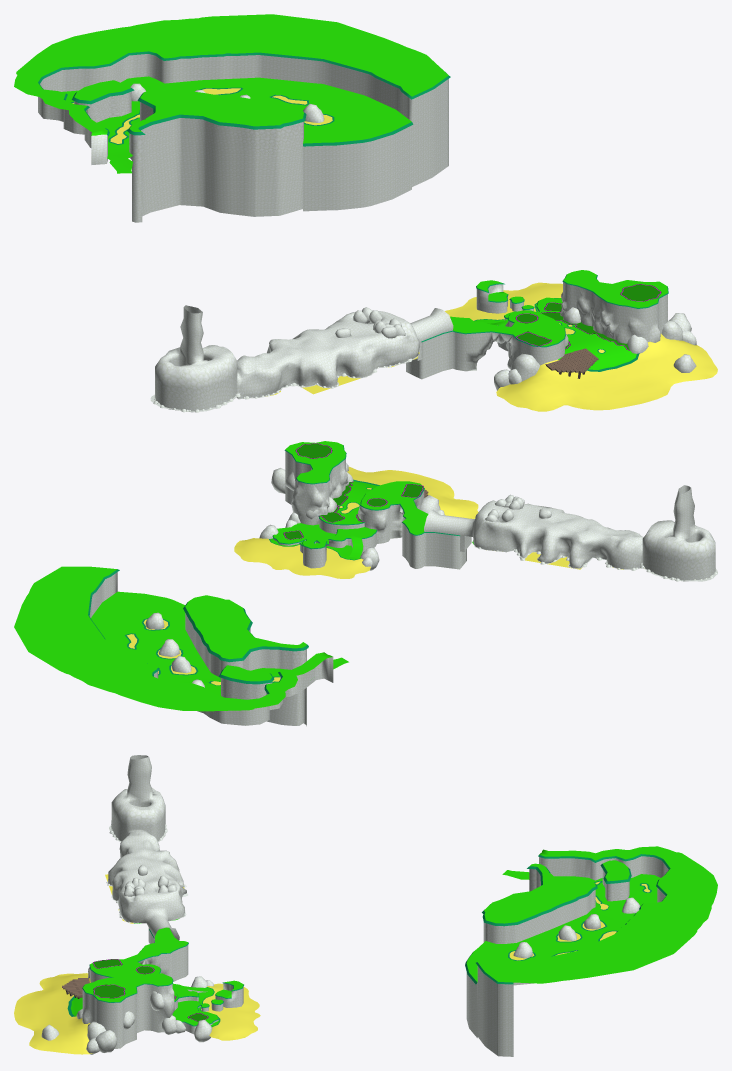
Rendered from terreno.fbx.
3 views of the same model, one above another, from view 1: azimuth 30°, elevation 25°; view 2: azimuth 150°, elevation 25°; view 3: azimuth 270°, elevation 25° (orthographic). The views are drawn at different scales.
Parts seen in each view (by area): view 1: Obj_Floor9, Obj_Floor11, Obj_Floor12, Obj_CaveWall1, Obj_Floor3, Obj_Floor5, Obj_Floor4, Obj_Floor10, Obj_Floor1, Obj_Floor8, Plataforma; view 2: Obj_Floor9, Obj_CaveWall1, Obj_Floor11, Obj_Floor12, Obj_Floor3, Obj_Floor5, Obj_Floor4, Obj_Floor1, Obj_Floor10, Obj_Floor8; view 3: Obj_Floor9, Obj_CaveWall1, Obj_Floor12, Obj_Floor11, Obj_Floor3, Obj_Floor4, Obj_Floor5, Obj_Floor1, Obj_Floor10, Obj_Floor8.
Boxes of the visible parts, bbox=[...] form: Obj_Floor9: bbox=[14, 14, 450, 186]; Obj_Floor11: bbox=[127, 89, 306, 222]; Obj_Floor12: bbox=[62, 76, 413, 211]; Obj_CaveWall1: bbox=[155, 305, 453, 412]; Obj_Floor3: bbox=[487, 297, 717, 411]; Obj_Floor5: bbox=[406, 310, 568, 379]; Obj_Floor4: bbox=[560, 270, 668, 343]; Obj_Floor10: bbox=[72, 80, 134, 122]; Obj_Floor1: bbox=[445, 282, 562, 323]; Obj_Floor8: bbox=[476, 280, 534, 313]; Plataforma: bbox=[545, 348, 598, 378]; Obj_Floor9: bbox=[14, 566, 333, 725]; Obj_CaveWall1: bbox=[424, 485, 715, 581]; Obj_Floor11: bbox=[183, 595, 308, 726]; Obj_Floor12: bbox=[91, 591, 348, 697]; Obj_Floor3: bbox=[272, 466, 478, 557]; Obj_Floor5: bbox=[358, 481, 466, 569]; Obj_Floor4: bbox=[284, 441, 348, 525]; Obj_Floor1: bbox=[234, 538, 370, 578]; Obj_Floor10: bbox=[218, 665, 274, 699]; Obj_Floor8: bbox=[299, 538, 327, 568]; Obj_Floor9: bbox=[476, 846, 717, 1056]; Obj_CaveWall1: bbox=[108, 755, 186, 942]; Obj_Floor12: bbox=[465, 870, 660, 1037]; Obj_Floor11: bbox=[482, 863, 597, 943]; Obj_Floor3: bbox=[14, 973, 218, 1054]; Obj_Floor4: bbox=[82, 973, 174, 1048]; Obj_Floor5: bbox=[89, 927, 188, 982]; Obj_Floor1: bbox=[198, 983, 260, 1040]; Obj_Floor10: bbox=[600, 860, 631, 901]; Obj_Floor8: bbox=[201, 980, 243, 1011].
Bounding box in the file's own units: 285 × 74.84 × 410.
Materials: 7 (3 with a texture image).
